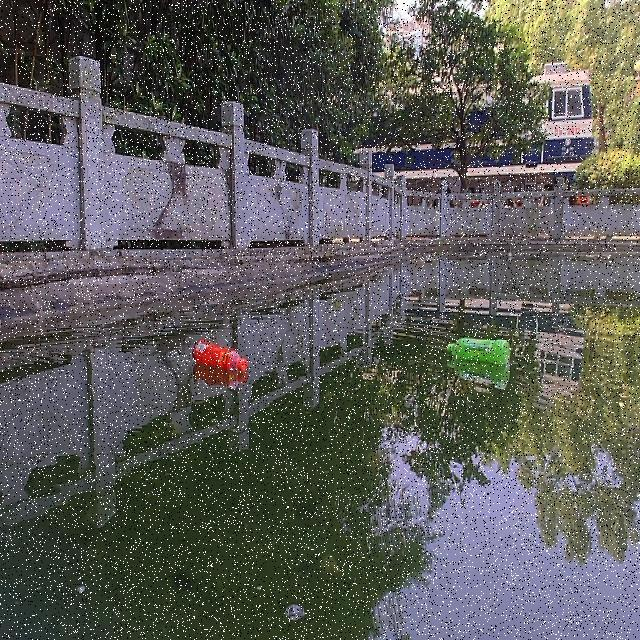Bottle: (188, 335, 255, 381), (441, 334, 517, 374)
